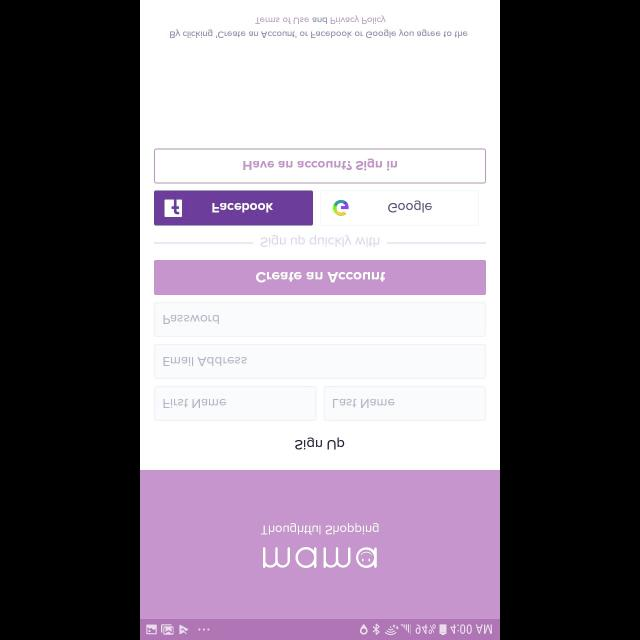image: (262, 546, 378, 568)
input: (154, 302, 486, 336), (154, 344, 486, 378), (155, 386, 317, 420), (324, 386, 486, 420)
text: (170, 15, 468, 39), (260, 234, 380, 246), (261, 522, 379, 534), (164, 356, 246, 366), (333, 398, 395, 408), (164, 398, 226, 408), (295, 438, 345, 450), (164, 314, 220, 324)
textbutton: (154, 148, 486, 184), (154, 260, 486, 294), (320, 190, 480, 226), (154, 190, 314, 226)
uppertaskbar: (140, 618, 500, 640)
